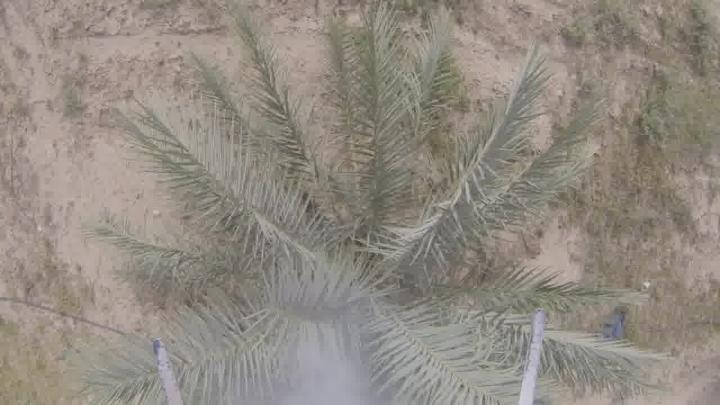Date-Palm-Crown: (215, 153, 492, 405)
